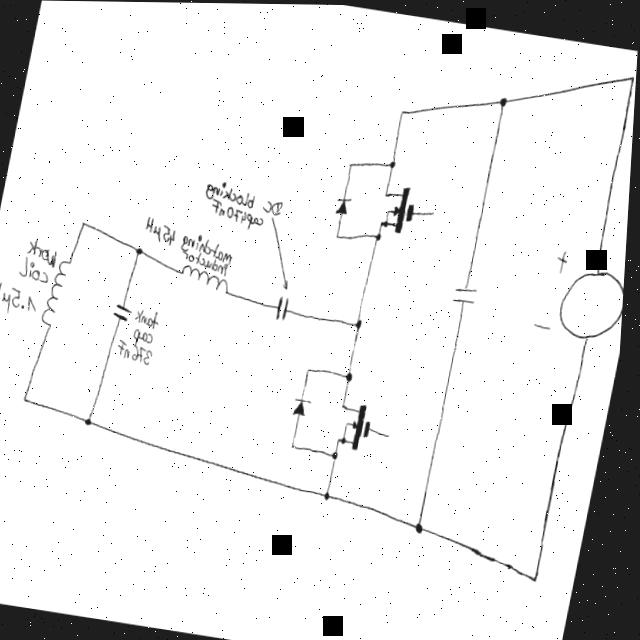capacitor: (454, 281, 484, 308), (277, 293, 296, 322), (115, 301, 138, 324)
diode: (294, 394, 318, 421), (335, 194, 356, 218)
inductor: (41, 257, 76, 328), (181, 261, 235, 295)
junction: (24, 390, 37, 406), (419, 520, 432, 534), (499, 93, 510, 108), (348, 368, 359, 383), (357, 315, 368, 330), (137, 245, 148, 257), (89, 415, 99, 427), (82, 219, 92, 230), (336, 449, 346, 460), (329, 489, 338, 501), (390, 158, 399, 169), (629, 70, 637, 82), (538, 571, 546, 583), (400, 106, 408, 116), (309, 364, 317, 374), (377, 231, 385, 241), (337, 231, 345, 240), (349, 160, 357, 169), (295, 441, 302, 450)
source: (556, 260, 628, 350)
terminal: (432, 209, 440, 216), (390, 431, 398, 438)
text: (210, 197, 268, 232), (183, 231, 239, 265), (206, 177, 260, 210), (0, 280, 44, 316), (28, 237, 64, 272), (144, 215, 182, 248), (185, 251, 231, 277), (19, 254, 55, 285), (118, 338, 158, 365), (137, 307, 165, 329), (134, 328, 159, 349), (263, 197, 288, 217)
transistor: (378, 180, 423, 236), (337, 398, 381, 452)
